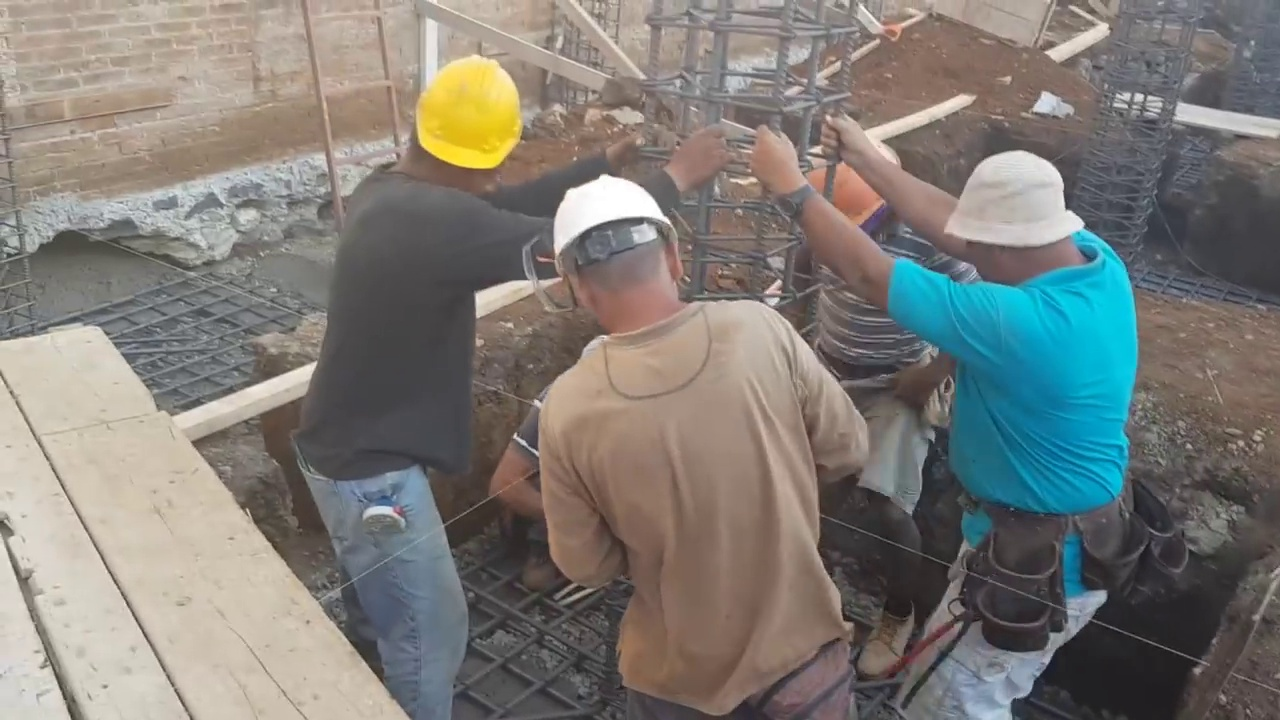helmet: (407, 54, 523, 168), (558, 179, 681, 281), (808, 159, 886, 230)
helmet-off: (933, 151, 1088, 295)
helmet-on: (550, 175, 700, 342), (387, 53, 528, 202), (804, 155, 901, 255)
person: (752, 100, 1144, 695), (520, 179, 883, 720), (269, 46, 561, 700), (806, 151, 948, 686), (496, 334, 630, 594)
